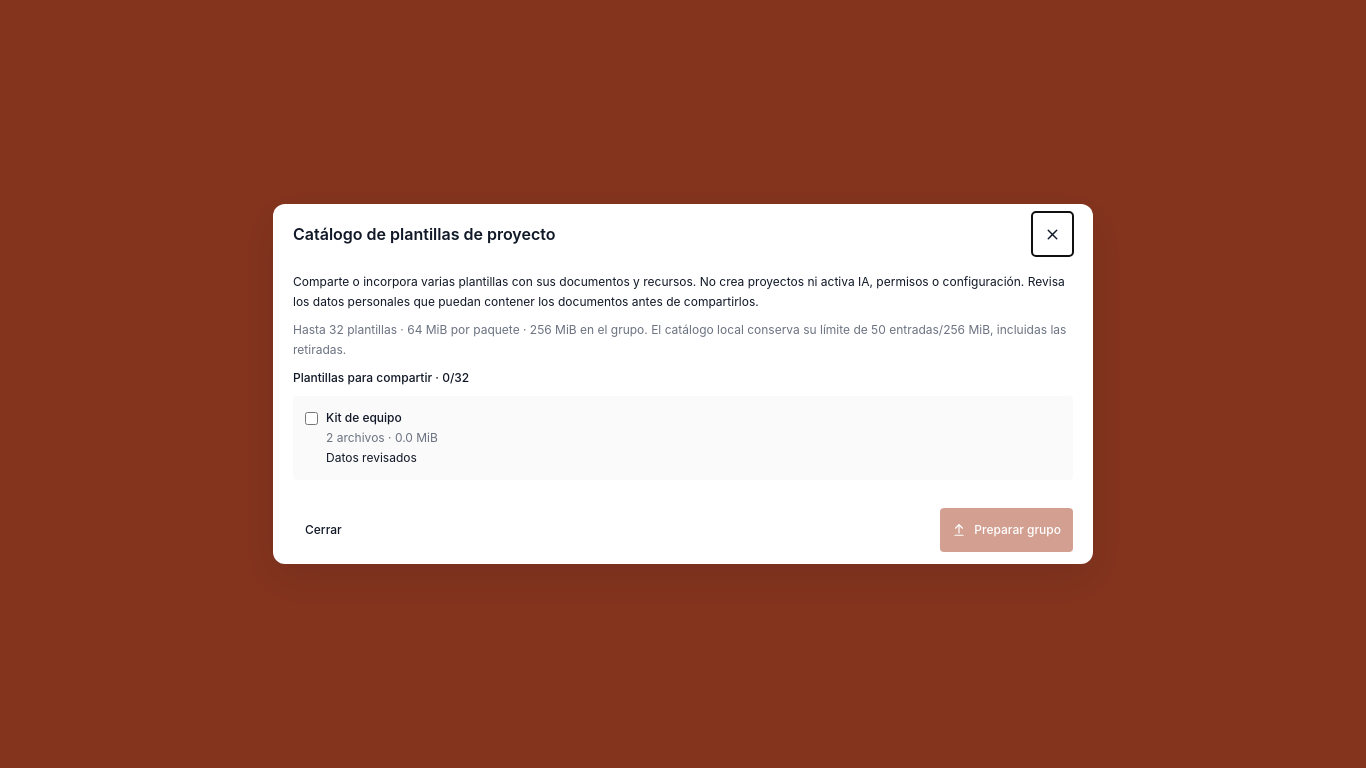
Scenario: prepares only explicitly selected template identities and revisions
This screenshot has width=1366, height=768.
Step 1. Click the checkbox labelled "Kit de equipo 2 archivos · 0.0 MiB Datos revisados" → (312, 418), box [305, 412, 318, 425]
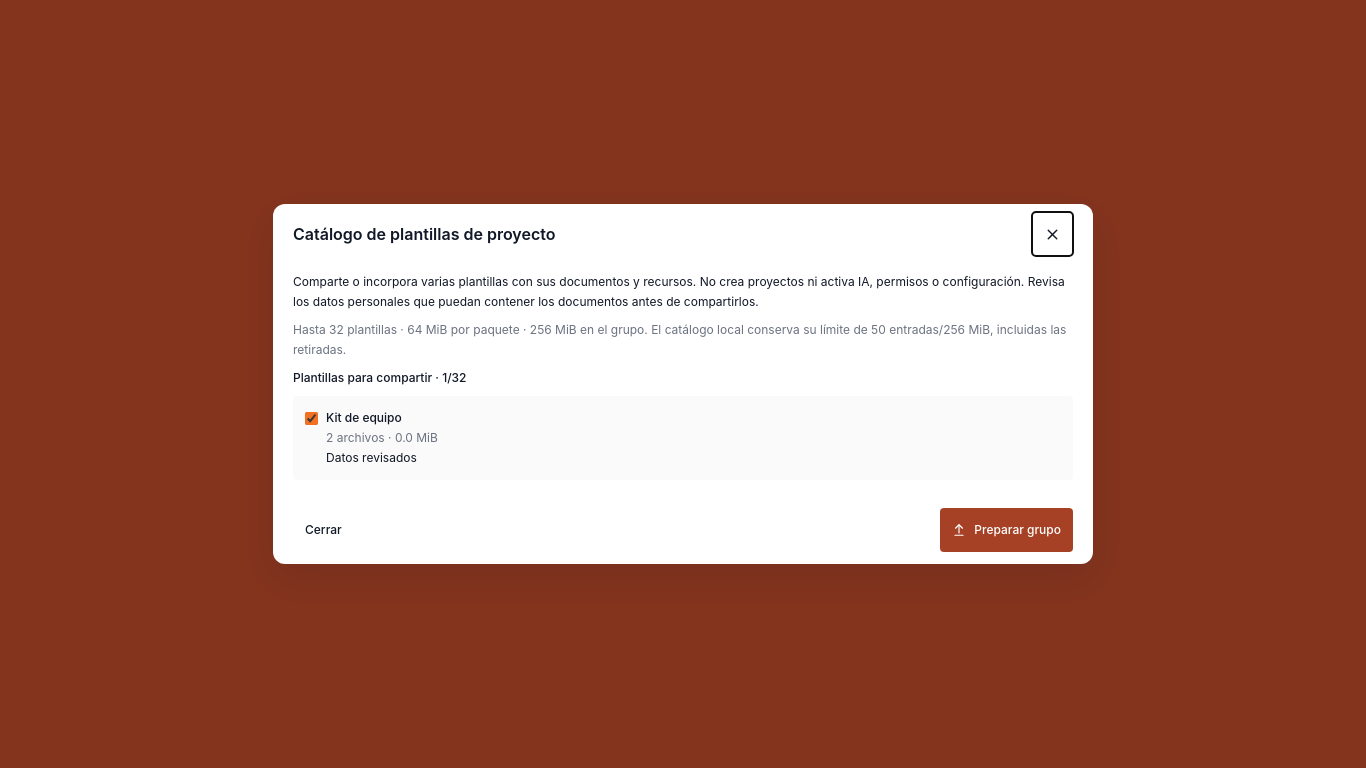
Step 2. Click the button "Preparar grupo" → (1007, 530), box [940, 508, 1073, 552]
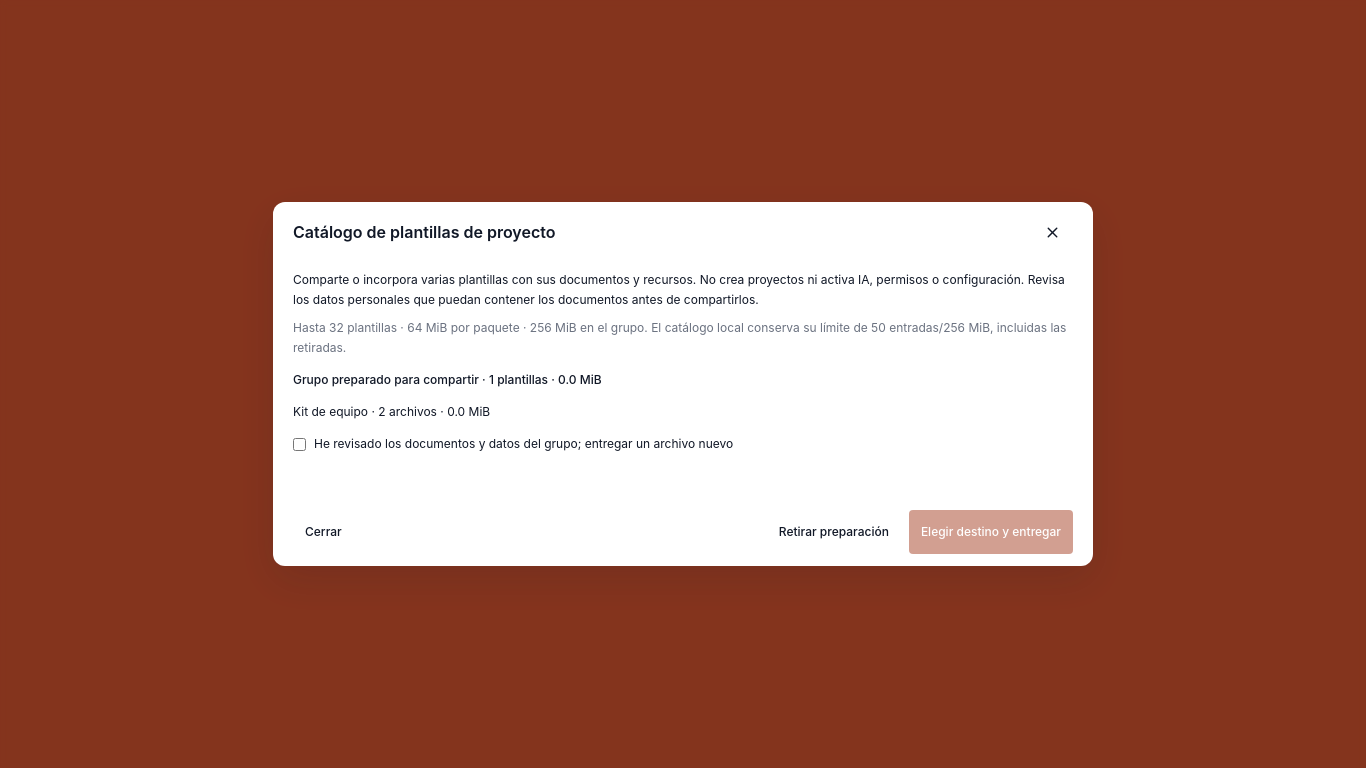
Result: the button "Elegir destino y entregar" is disabled at [909, 510, 1073, 554]
